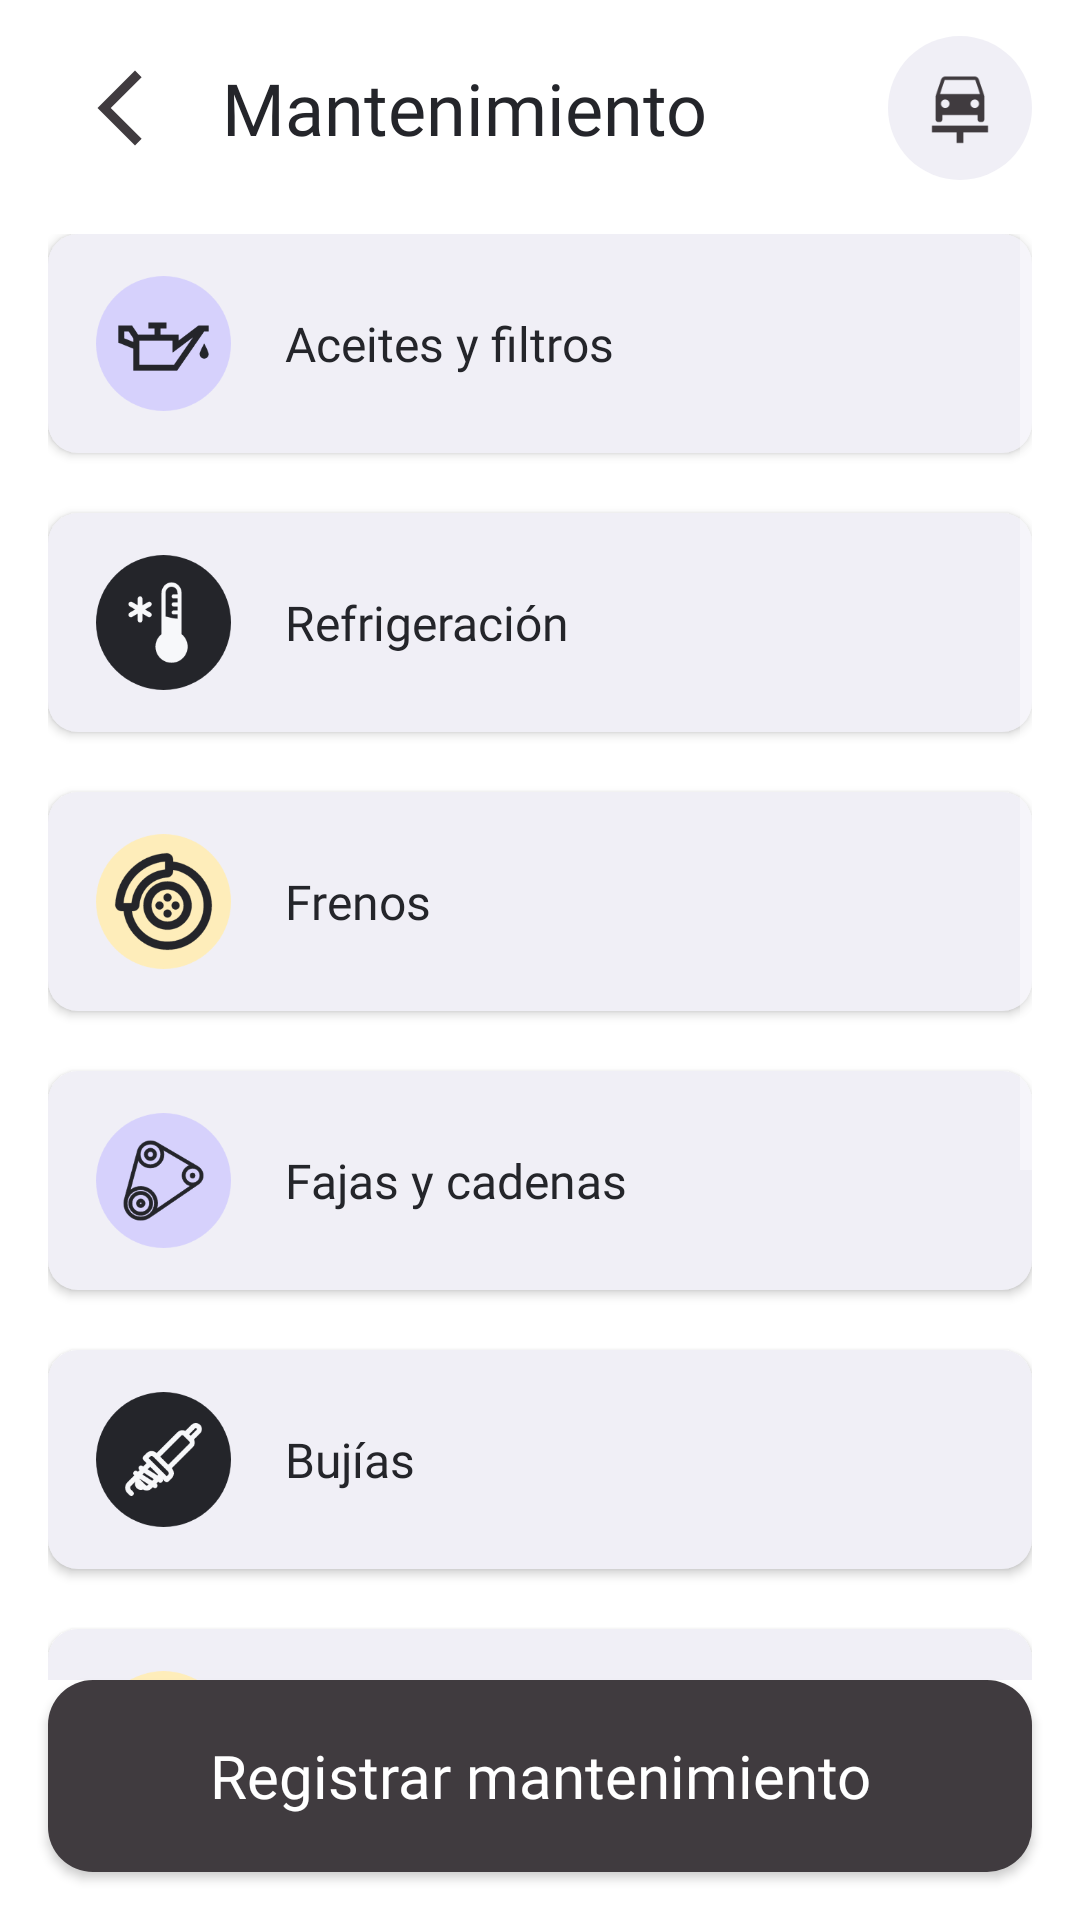

Named icons in this screenshot (1080x1920) and their bounding boxes, (x1, y1, x2, y2):
Flecha que indica la dirección hacia atras: (98, 71, 142, 146)
